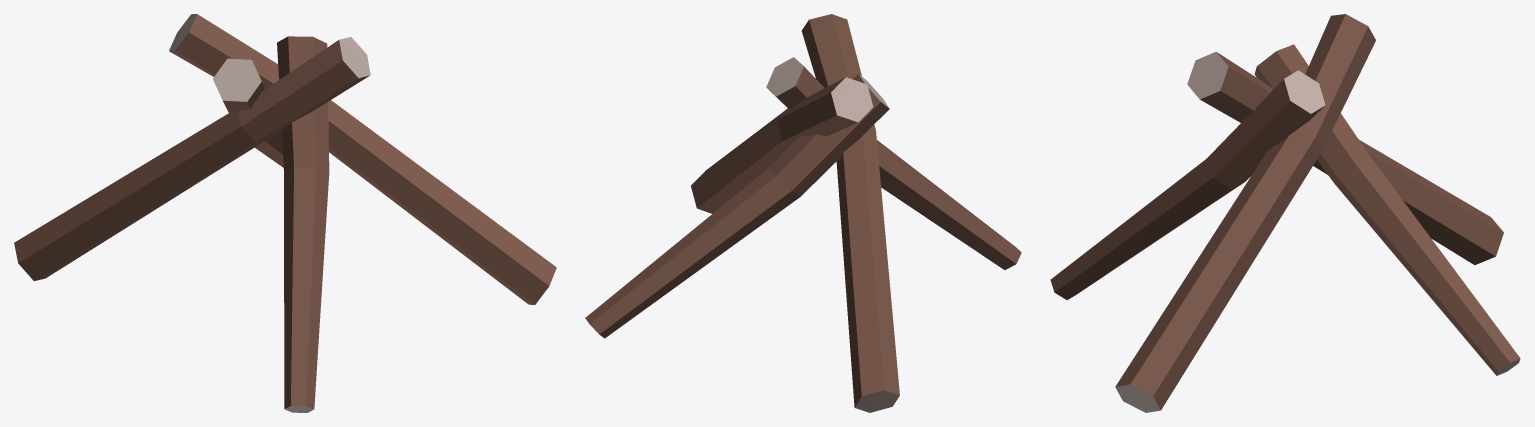
Rendered from SM_firewood_004.obj.
3 views of the same model, side by side, from view 1: azimuth 30°, elevation 25°; view 2: azimuth 150°, elevation 25°; view 3: azimuth 270°, elevation 25° (orthographic). The views are drawn at different scales.
Parts seen in each view (by area): view 1: SM_firewood_004_M_Material; view 2: SM_firewood_004_M_Material; view 3: SM_firewood_004_M_Material.
Boxes of the visible parts, x1,y1,x2,y2 form: SM_firewood_004_M_Material: [14, 14, 556, 412]; SM_firewood_004_M_Material: [585, 14, 1021, 412]; SM_firewood_004_M_Material: [1050, 14, 1520, 412].
Size of the model in its own units: 0.8766 by 0.654 by 0.9253.
Materials: 1 (1 with a texture image).
